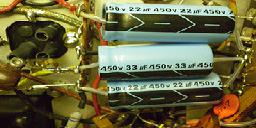Electrolytic-Capacitor: (99, 2, 245, 45), (82, 43, 249, 72), (84, 75, 231, 106)
